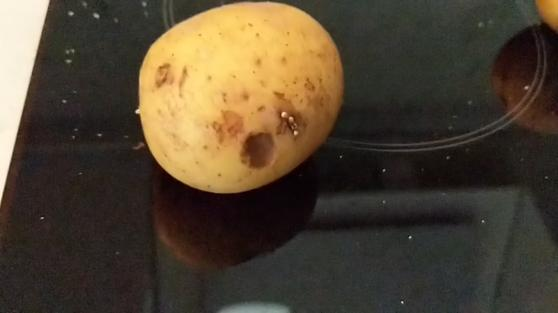potato: (142, 2, 346, 195)
